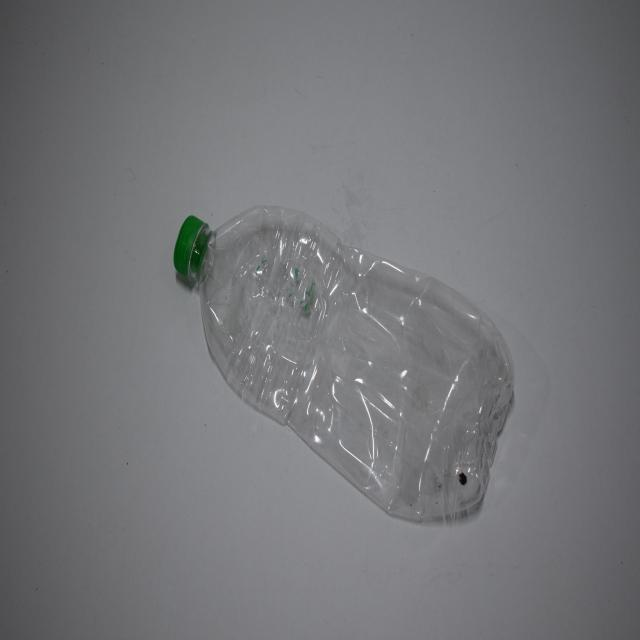bottle: (158, 188, 536, 556)
